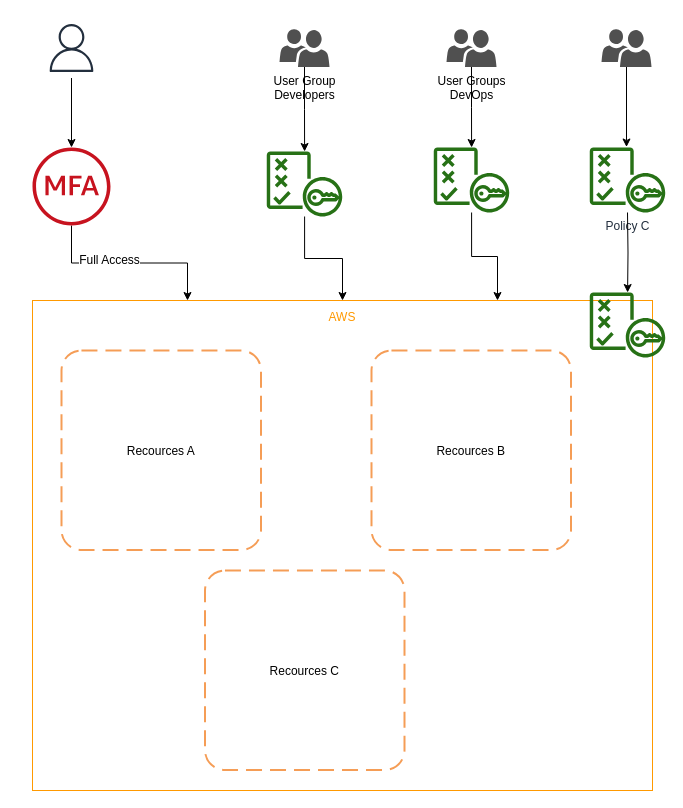
Some shapes in this 683 by 808 pixel diagram are drawn without their labels. The box of each missing label's shape, as (x1, y1, x2, y2) in pixels:
Policy A: (266, 151, 342, 216)
Policy B: (433, 147, 509, 212)
Root Admin Account: (40, 17, 102, 78)
User Groups Admins: (601, 28, 651, 66)
